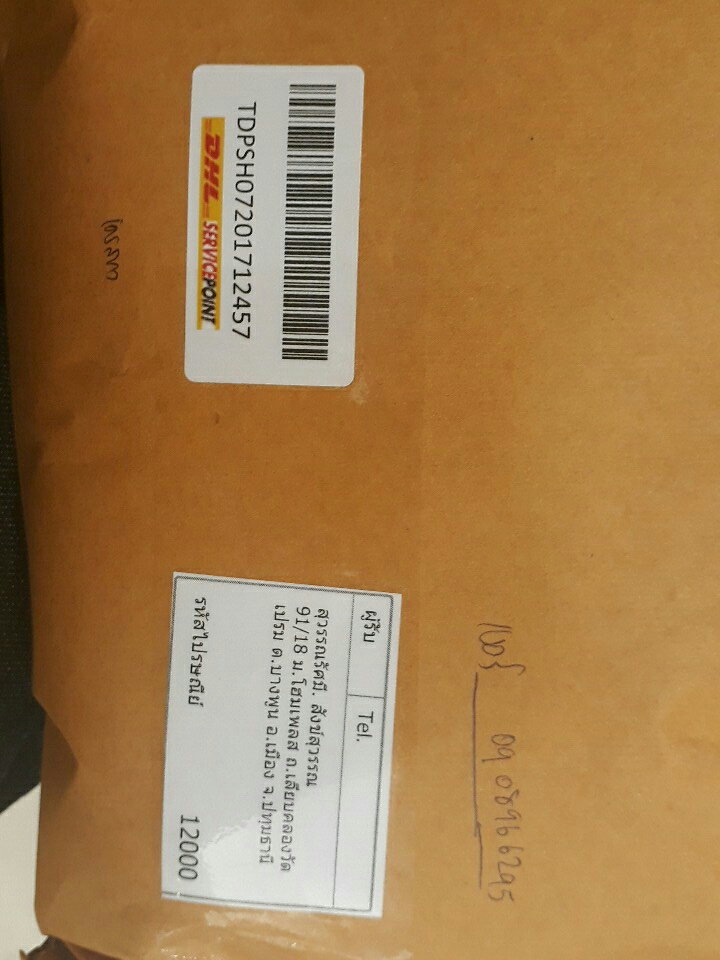txt: (177, 592, 383, 893)
